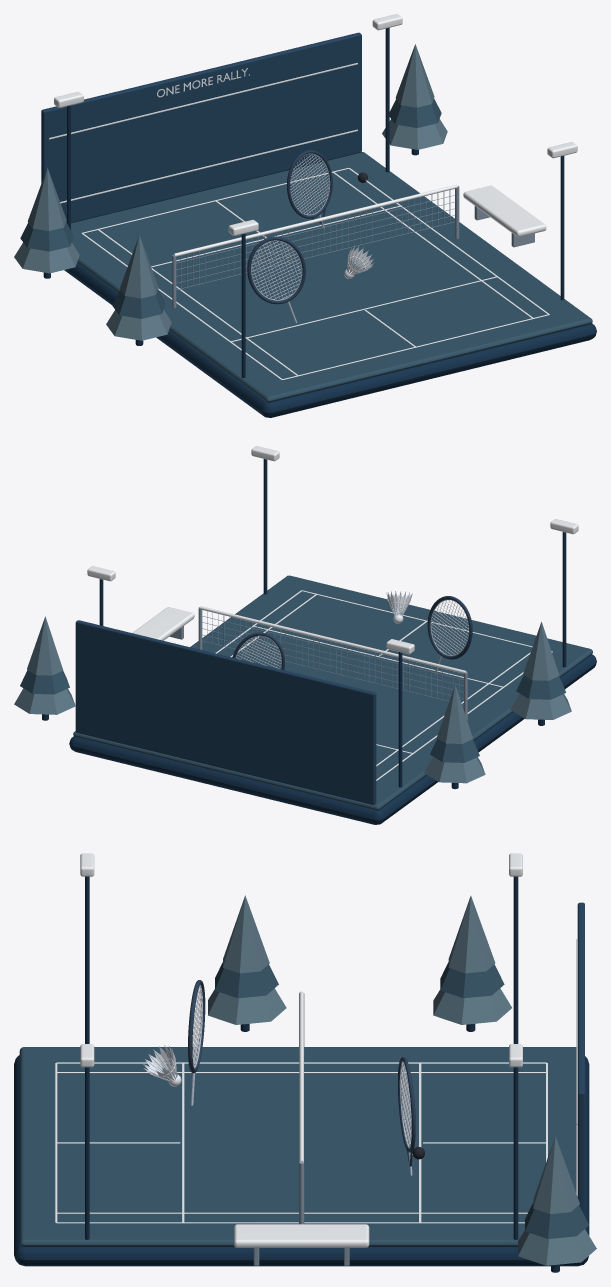
The model's file is court-journey.glb.
3 views of the same model, one above another, from view 1: azimuth 30°, elevation 25°; view 2: azimuth 150°, elevation 25°; view 3: azimuth 270°, elevation 25° (orthographic). The views are drawn at different scales.
Visible parts, largest first — view 1: Court surface, Practice wall, Court foundation, Bench, Pine crown.005, Pine crown.008, Pine crown.002, Pine crown.003, Pine crown, Pine crown.006, Net tape, Pine crown.001 (+9 smaller); view 2: Practice wall, Court surface, Court foundation, Pine crown.005, Pine crown.008, Pine crown.002, Pine crown, Pine crown.003, Pine crown.006, Bench, Net tape, Pine crown.004 (+6 smaller); view 3: Court surface, Court foundation, Bench, Practice wall, Pine crown.002, Pine crown.008, Pine crown.005, Pine crown, Pine crown.006, Pine crown.003, Pine crown.001, Pine crown.007 (+12 smaller).
Boxes of the visible parts, x1,y1,x2,y2 form: Court surface: [71, 152, 592, 402]; Practice wall: [41, 32, 361, 223]; Court foundation: [64, 263, 596, 417]; Bench: [463, 185, 546, 237]; Pine crown.005: [119, 235, 158, 298]; Pine crown.008: [395, 44, 434, 107]; Pine crown.002: [27, 167, 66, 230]; Pine crown.003: [106, 310, 171, 340]; Pine crown: [14, 242, 79, 273]; Pine crown.006: [382, 119, 447, 149]; Net tape: [173, 184, 457, 256]; Pine crown.001: [20, 222, 73, 251]; Practice wall: [75, 620, 376, 804]; Court surface: [73, 575, 592, 810]; Court foundation: [69, 654, 596, 824]; Pine crown.005: [523, 622, 559, 680]; Pine crown.008: [27, 616, 63, 675]; Pine crown.002: [436, 685, 472, 743]; Pine crown: [424, 756, 485, 783]; Pine crown.003: [510, 693, 571, 719]; Pine crown.006: [14, 688, 75, 714]; Bench: [132, 607, 194, 640]; Net tape: [199, 606, 466, 673]; Pine crown.004: [516, 675, 565, 699]; Court surface: [19, 1047, 576, 1247]; Court foundation: [14, 1055, 589, 1266]; Bench: [234, 1224, 369, 1247]; Practice wall: [577, 902, 584, 1215]; Pine crown.002: [448, 895, 495, 973]; Pine crown.008: [533, 1136, 579, 1213]; Pine crown.005: [223, 895, 269, 973]; Pine crown: [433, 988, 511, 1024]; Pine crown.006: [518, 1229, 596, 1265]; Pine crown.003: [208, 988, 286, 1024]; Pine crown.001: [440, 962, 504, 998]; Pine crown.007: [525, 1203, 588, 1238].
Bounding box in the file's own units: 11.54 × 4.49 × 10.34.
